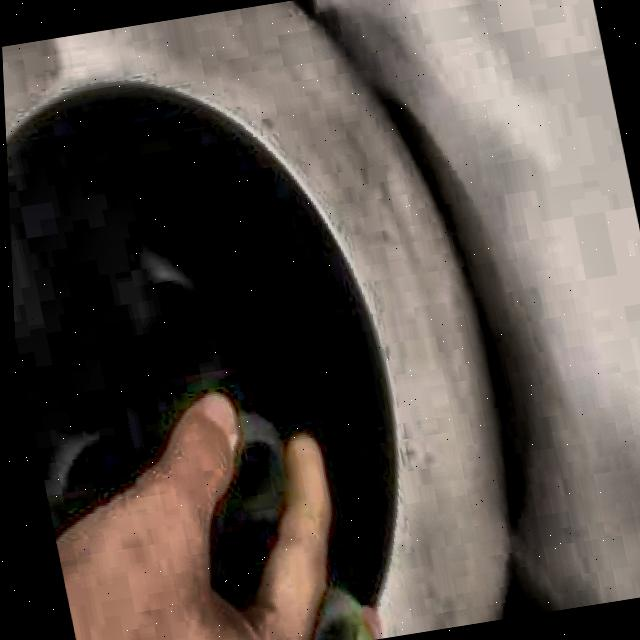glass: (37, 254, 222, 533), (203, 411, 281, 609), (305, 588, 368, 640)
